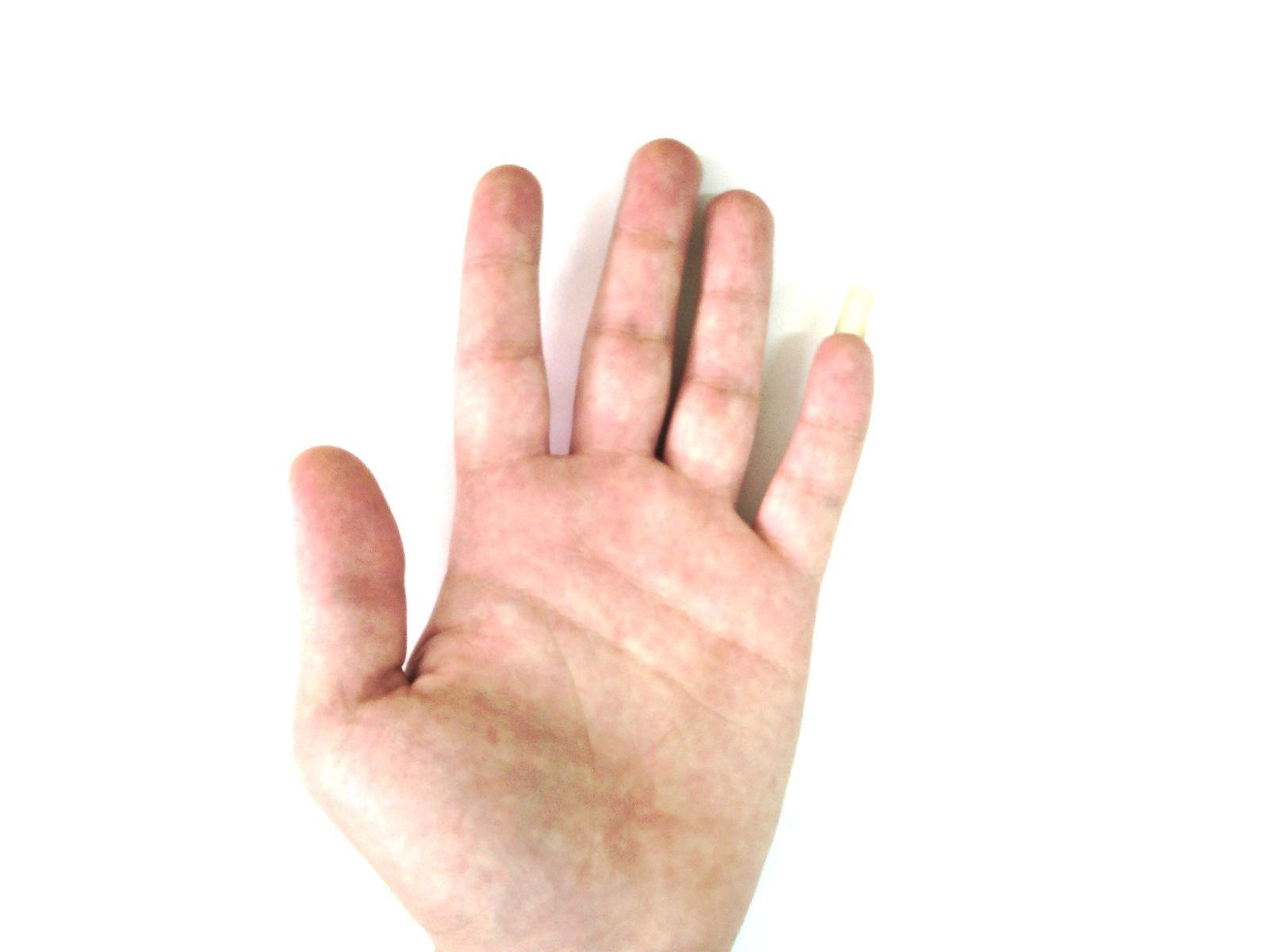open_palm: (286, 136, 878, 951)
